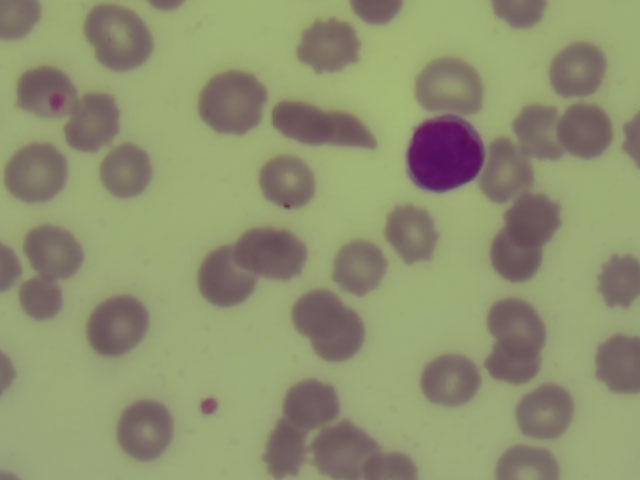Platelets: (49, 97, 68, 114), (201, 396, 218, 413)
RBC: (84, 293, 151, 359), (86, 5, 154, 69), (201, 74, 266, 138), (232, 227, 307, 277), (5, 145, 71, 198), (118, 400, 173, 461), (298, 20, 360, 72), (418, 59, 481, 110), (518, 382, 573, 439), (423, 354, 483, 406), (204, 246, 254, 307), (488, 299, 542, 352), (30, 226, 82, 281), (320, 307, 367, 365), (73, 96, 121, 151), (260, 159, 317, 205), (489, 139, 531, 201), (339, 243, 386, 298), (566, 106, 612, 162), (322, 111, 379, 156), (553, 45, 605, 94), (16, 72, 75, 115), (281, 382, 337, 426), (493, 232, 540, 284), (597, 337, 640, 393), (273, 102, 333, 142), (317, 430, 365, 480), (393, 206, 436, 261), (264, 426, 310, 477), (601, 254, 640, 314), (522, 101, 558, 162), (512, 196, 563, 239), (105, 148, 150, 195), (16, 275, 62, 320), (490, 342, 538, 382), (501, 450, 560, 480), (4, 1, 44, 43), (371, 447, 417, 480), (296, 292, 333, 333), (492, 1, 546, 26), (351, 1, 404, 23), (3, 246, 23, 294), (625, 108, 640, 165), (1, 353, 16, 396), (147, 1, 182, 11), (3, 471, 18, 480)
WBC: (404, 114, 485, 191)
